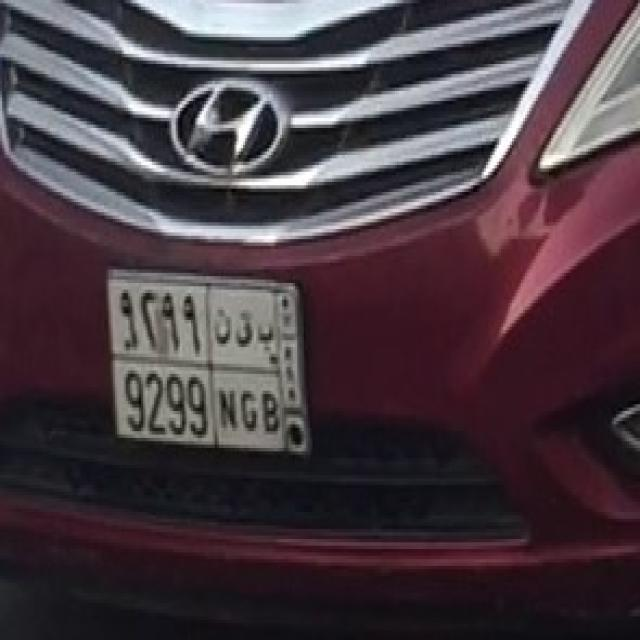Car-plate: (96, 257, 342, 476)
